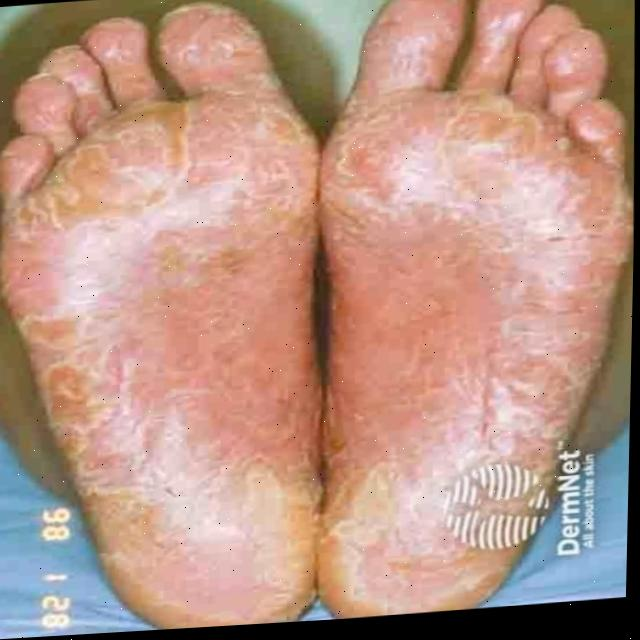Eczema: (1, 82, 314, 623), (318, 76, 616, 606)
